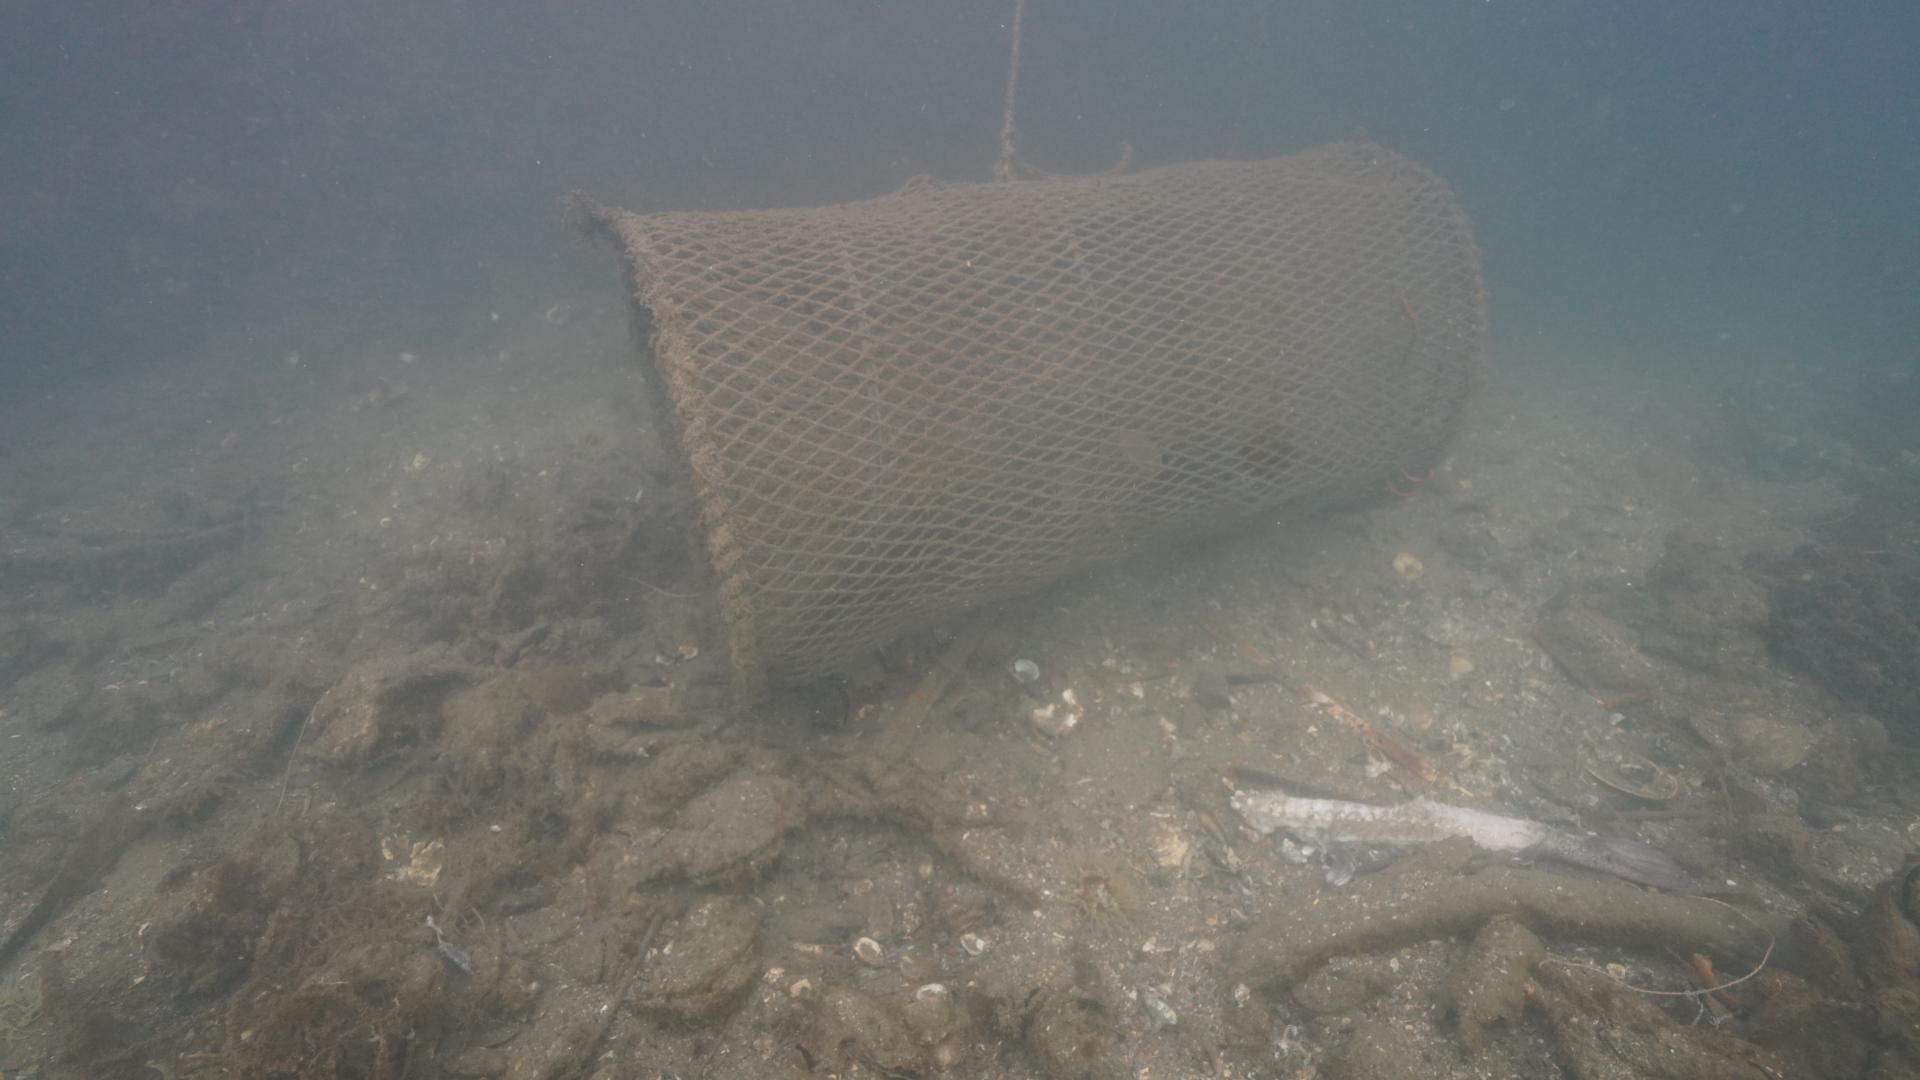rope: (996, 0, 1030, 160)
spring fish trap: (568, 129, 1493, 719)
